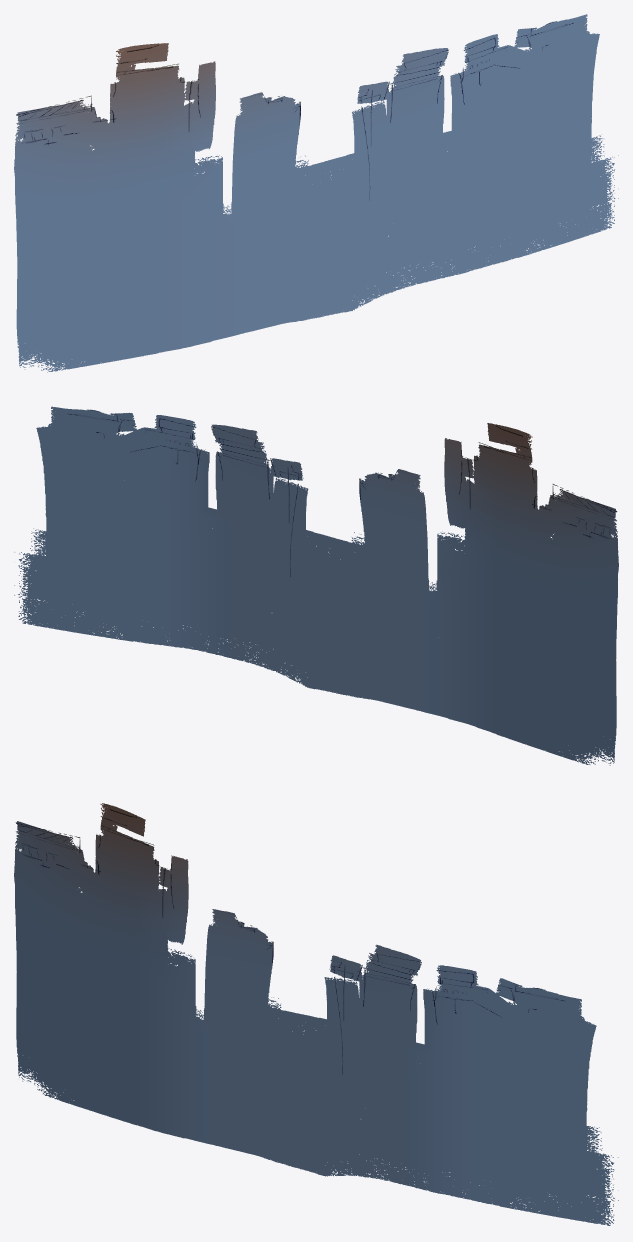
File: 01_back_bld_01.fbx
The picture shows the model from 3 angles, top to bottom: view 1: azimuth 30°, elevation 25°; view 2: azimuth 150°, elevation 25°; view 3: azimuth 330°, elevation 25°; orthographic projection.
Parts seen in each view (by area): view 1: 房子_遠景_01; view 2: 房子_遠景_01; view 3: 房子_遠景_01.
Boxes of the visible parts, x1,y1,x2,y2 form: 房子_遠景_01: (14,14,618,372); 房子_遠景_01: (14,406,618,765); 房子_遠景_01: (14,803,618,1225).
Size of the model in its own units: 966 by 481 by 38.25.
1 material, 1 textured.
